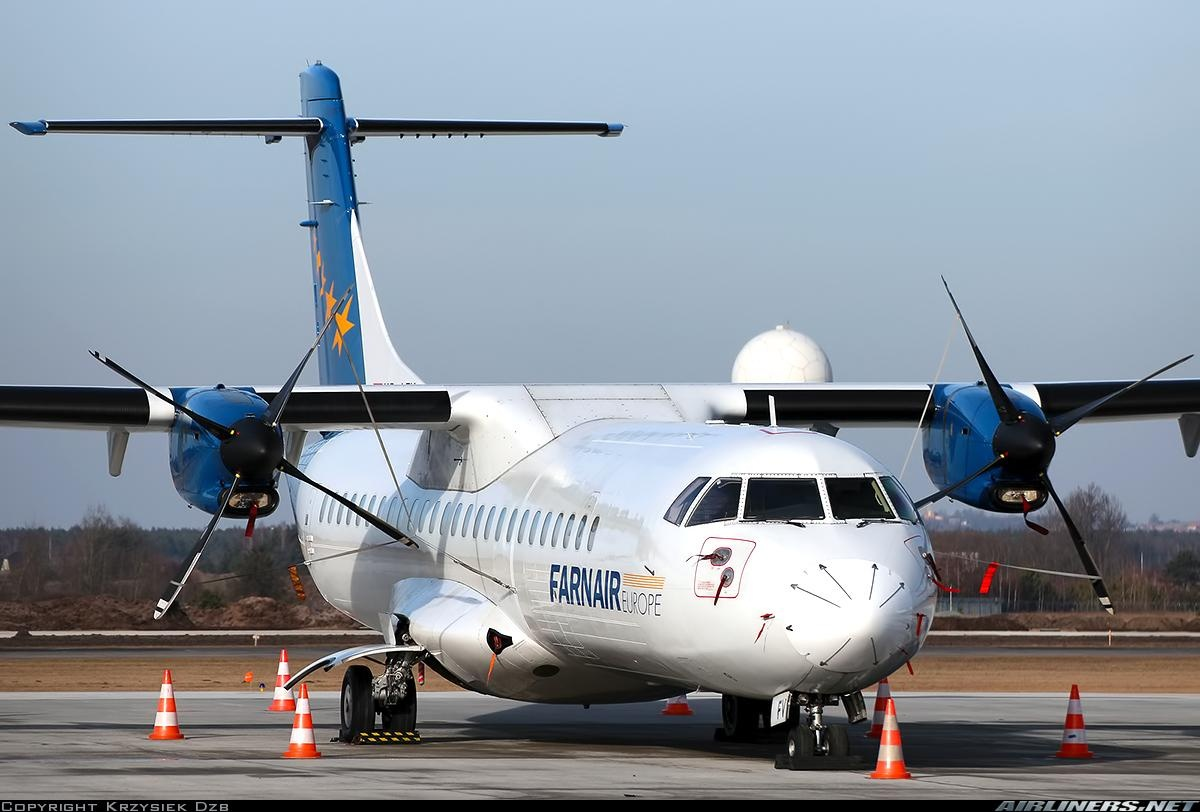aircraft: (0, 55, 1192, 760)
